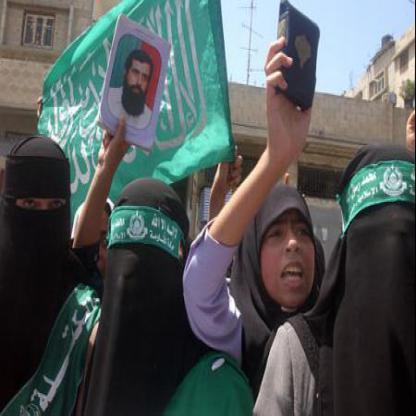face: (256, 186, 320, 311), (126, 52, 152, 106)
